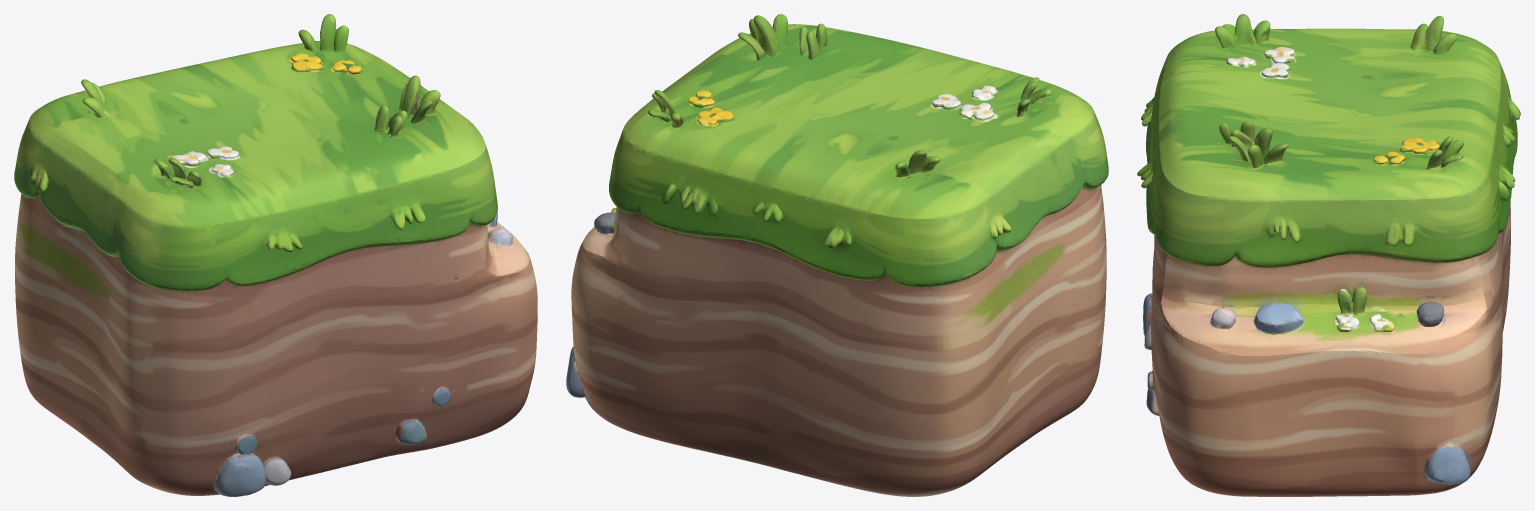
Rendered from ter_cliff.glb.
3 views of the same model, side by side, from view 1: azimuth 30°, elevation 25°; view 2: azimuth 150°, elevation 25°; view 3: azimuth 270°, elevation 25° (orthographic). The views are drawn at different scales.
Visible parts, largest first — view 1: geometry_0; view 2: geometry_0; view 3: geometry_0.
Part boxes in pixels (x1,y1,x2,y2): geometry_0: (14,14,537,496); geometry_0: (566,14,1108,496); geometry_0: (1137,14,1520,496).
Bounding box in the file's own units: 0.3 × 0.2403 × 0.2457.
Materials: 1 (1 with a texture image).
